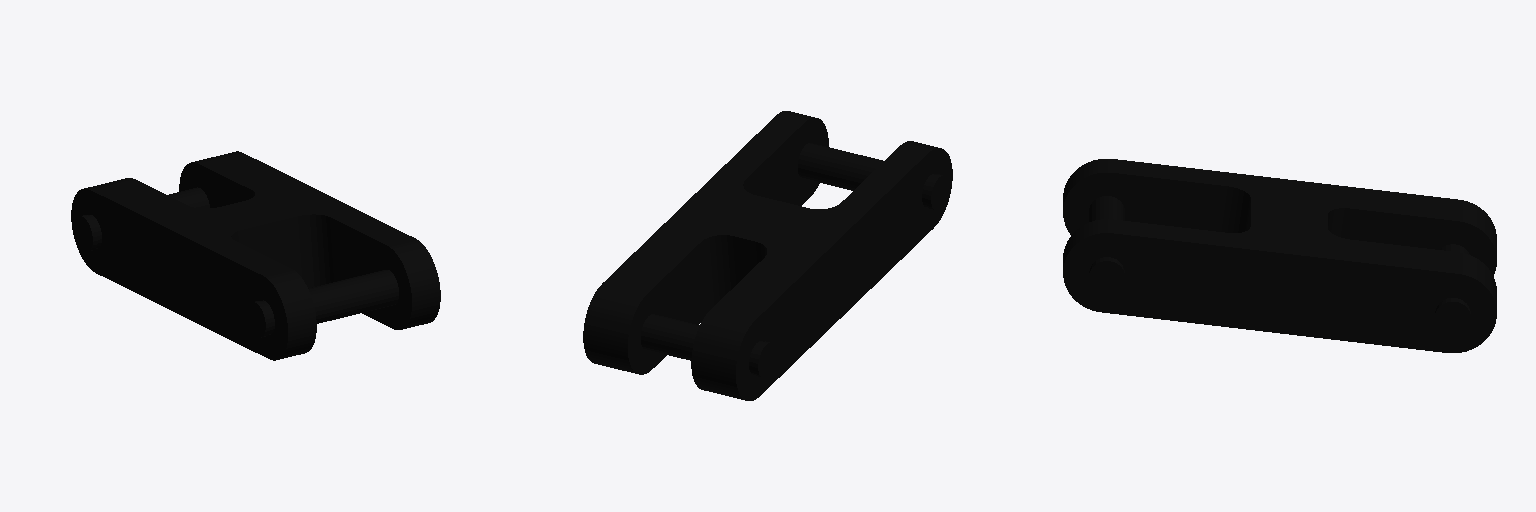
Rendered from robotiq_arg2f_85_outer_finger.obj.
3 views of the same model, side by side, from view 1: azimuth 30°, elevation 25°; view 2: azimuth 150°, elevation 25°; view 3: azimuth 270°, elevation 25° (orthographic).
Visible parts, largest first — view 1: geometry0; view 2: geometry0; view 3: geometry0.
Boxes of the visible parts, box(x1,y1,x2,y2) form: geometry0: box(71, 151, 440, 360); geometry0: box(583, 111, 952, 400); geometry0: box(1063, 159, 1496, 352).
Size of the model in its own units: 0.027 by 0.0181 by 0.0591.